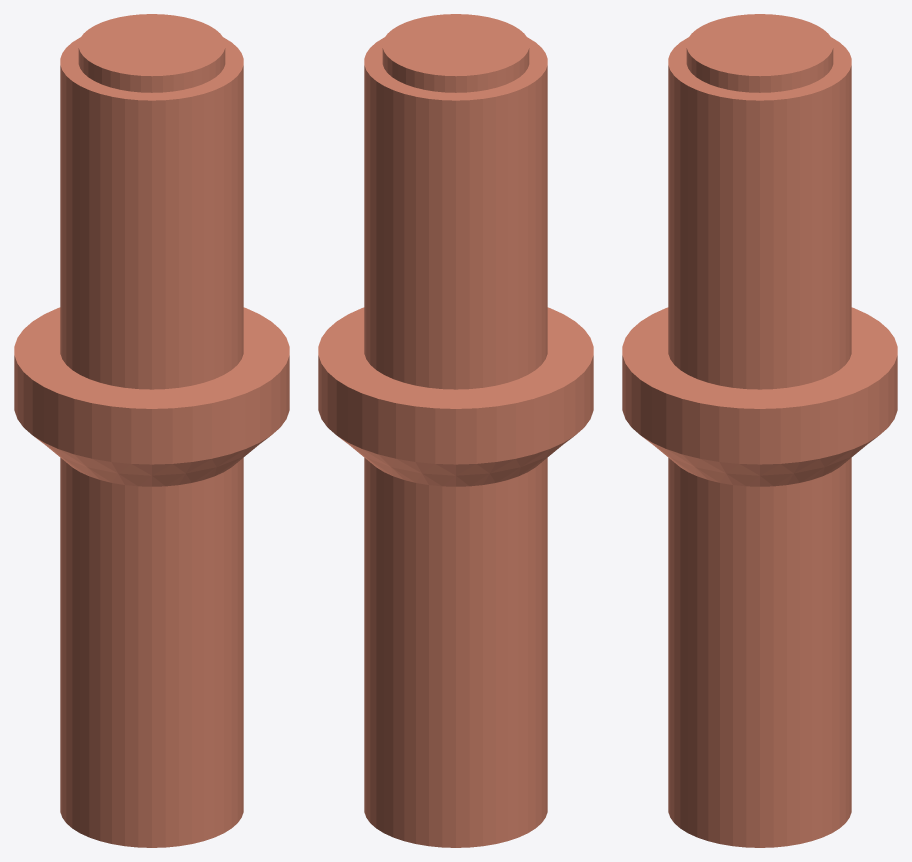
File: plunger.glb
3 views of the same model, side by side, from view 1: azimuth 30°, elevation 25°; view 2: azimuth 150°, elevation 25°; view 3: azimuth 270°, elevation 25° (orthographic).
Visible parts, largest first — view 1: plunger; view 2: plunger; view 3: plunger.
Part boxes in pixels (x1,y1,x2,y2): plunger: (14, 14, 289, 847); plunger: (318, 14, 593, 847); plunger: (622, 14, 897, 847).
Size of the model in its own units: 0.009 by 0.0275 by 0.00897.
